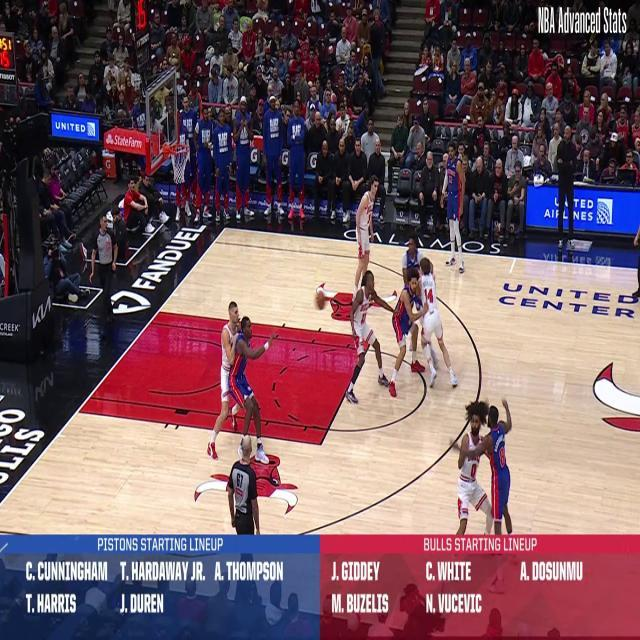ball: (312, 284, 330, 316)
player: (454, 398, 518, 532), (228, 314, 278, 466), (345, 268, 397, 406), (206, 300, 243, 462), (438, 140, 481, 278), (454, 398, 494, 536), (388, 266, 429, 400), (396, 222, 434, 360), (350, 172, 380, 304)
